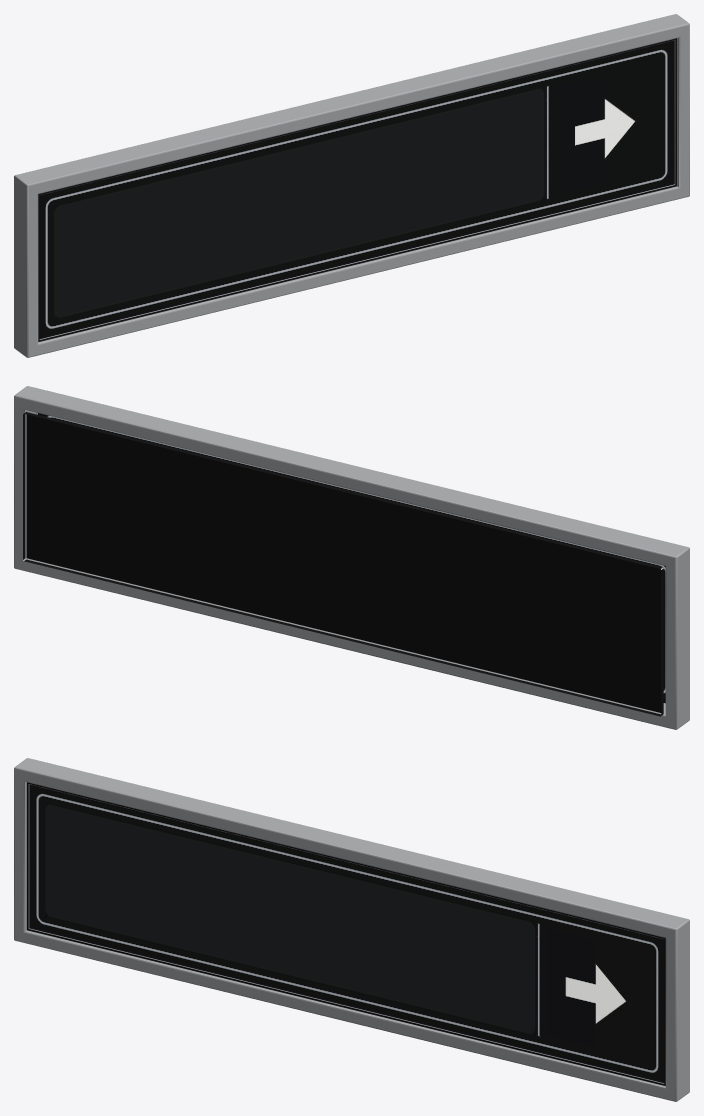
File: gteki_sign_wall_black.glb
3 views of the same model, one above another, from view 1: azimuth 30°, elevation 25°; view 2: azimuth 150°, elevation 25°; view 3: azimuth 330°, elevation 25° (orthographic).
Parts seen in each view (by area): view 1: VIS_faces, VIS_frame; view 2: VIS_frame, VIS_faces; view 3: VIS_faces, VIS_frame.
Part boxes in pixels (x1,y1,x2,y2): VIS_faces: [39, 40, 673, 338]; VIS_frame: [14, 14, 689, 357]; VIS_frame: [14, 386, 689, 729]; VIS_faces: [39, 413, 665, 701]; VIS_faces: [30, 784, 664, 1082]; VIS_frame: [14, 758, 689, 1101].
Size of what is drawn, in the model's own units: 1.6 by 0.4 by 0.07.
Materials: 3 (1 with a texture image).
